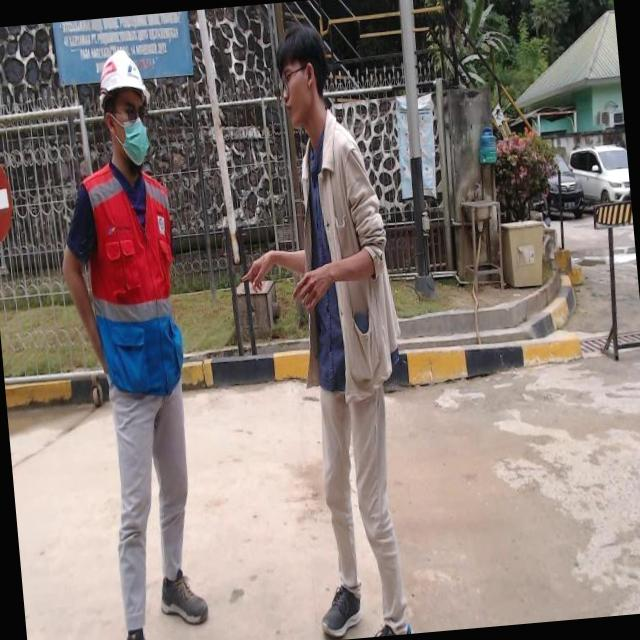helmet: (91, 45, 152, 114)
no-boots: (156, 565, 209, 628), (316, 581, 364, 640), (122, 621, 148, 640)
no-gloves: (284, 250, 352, 320), (232, 244, 298, 296)
no-helmet: (262, 23, 335, 132)
no-vest: (276, 106, 416, 419)
vest: (77, 157, 188, 390)
